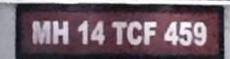1: (76, 20, 90, 45)
4: (90, 20, 107, 46), (163, 21, 179, 46)
5: (178, 21, 193, 47)
9: (193, 21, 207, 47)
C: (126, 20, 143, 46)
F: (143, 21, 157, 46)
H: (51, 20, 70, 46)
M: (31, 20, 52, 45)
T: (110, 21, 128, 45)
